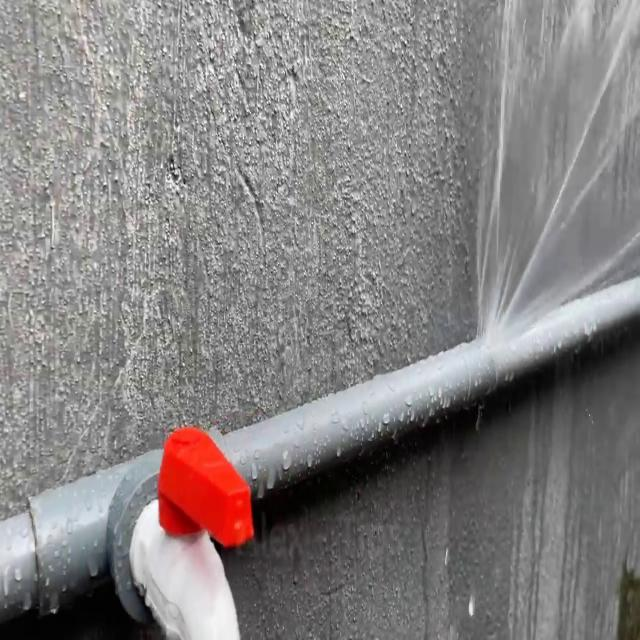leak: (472, 0, 640, 344)
